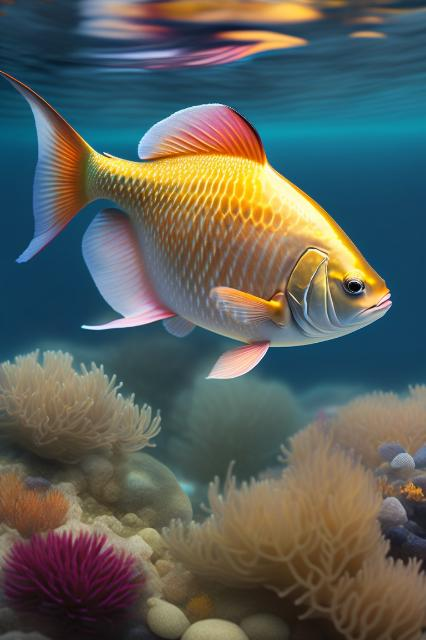Sirip Ekor: (0, 58, 90, 280)
Sirip Punggung: (76, 193, 188, 359), (126, 85, 276, 179)
